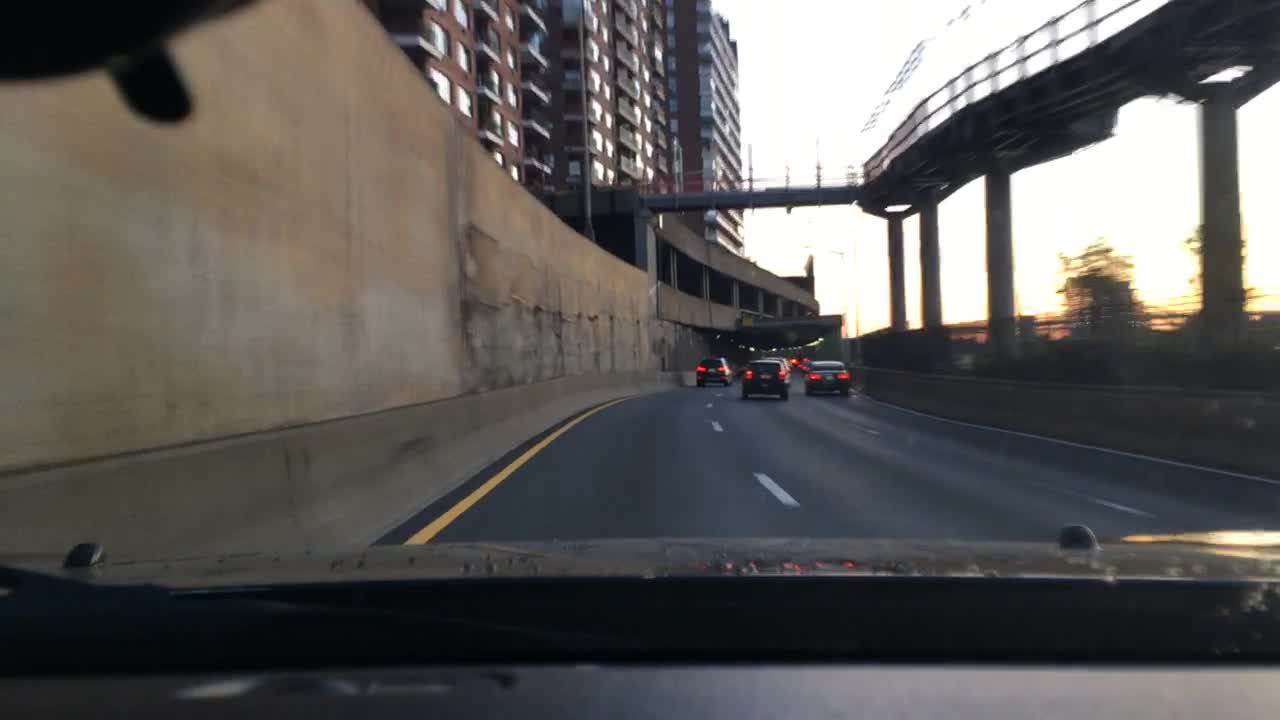car: (741, 357, 789, 401), (804, 359, 849, 398), (694, 356, 733, 387), (767, 356, 791, 375), (787, 356, 802, 364)
